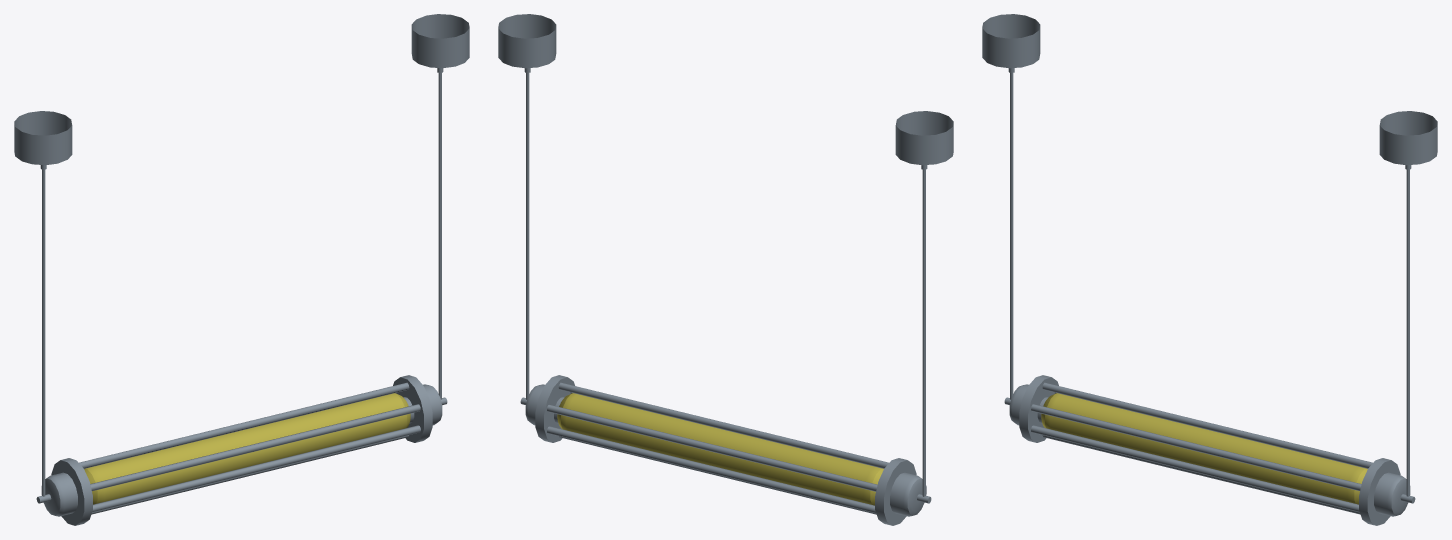
The model's file is lamp_long.fbx.
The picture shows the model from 3 angles, left to right: view 1: azimuth 30°, elevation 25°; view 2: azimuth 150°, elevation 25°; view 3: azimuth 330°, elevation 25°; orthographic projection.
Parts seen in each view (by area): view 1: combined_sweep1, pCylinder1; view 2: combined_sweep1, pCylinder1; view 3: combined_sweep1, pCylinder1.
Part boxes in pixels (<box>): combined_sweep1: <box>14,14,469,525</box>; pCylinder1: <box>84,393,410,504</box>; combined_sweep1: <box>498,14,953,525</box>; pCylinder1: <box>557,393,883,505</box>; combined_sweep1: <box>982,14,1437,525</box>; pCylinder1: <box>1041,393,1367,504</box>.
Bounding box in the file's own units: 81.18 × 70.53 × 10.36.
